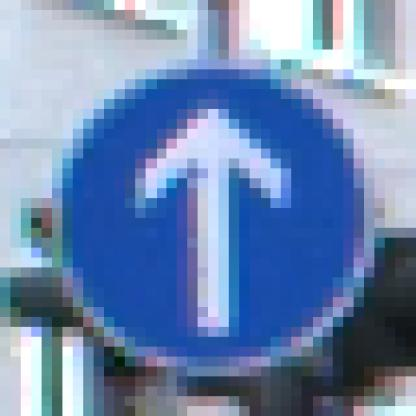AheadOnly: (53, 51, 365, 368)
